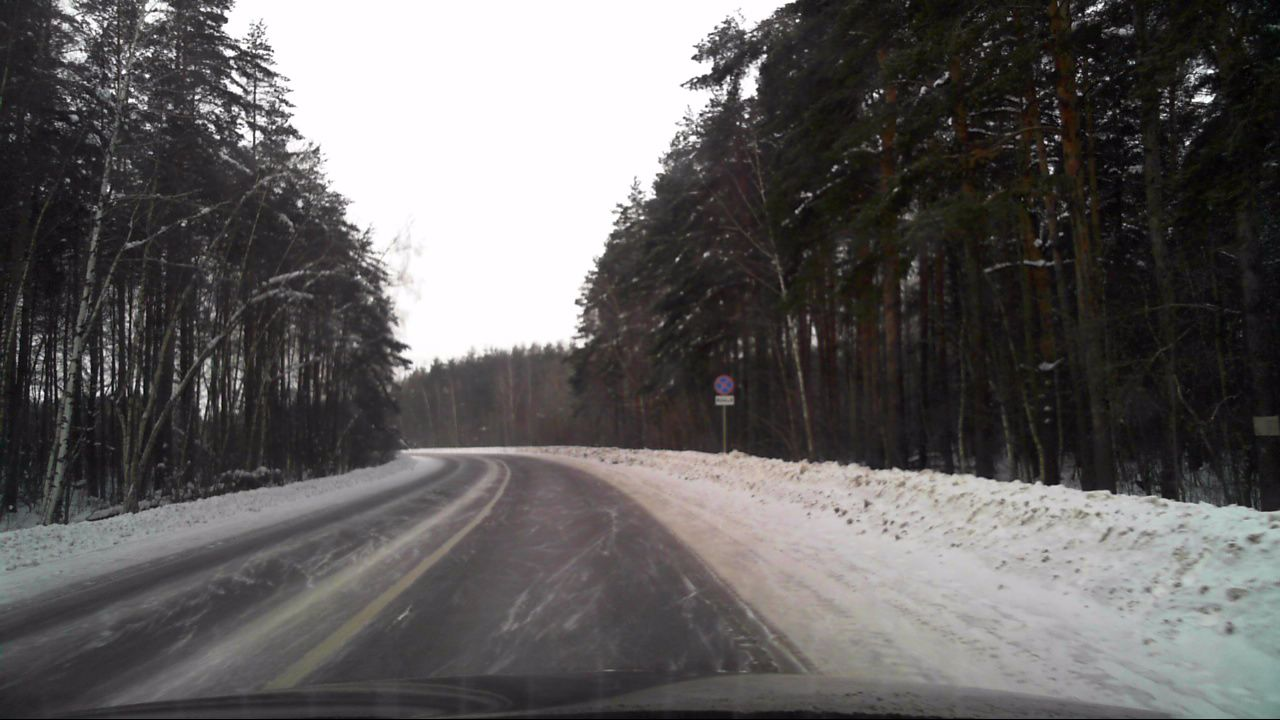No Parking: (713, 373, 734, 395)
